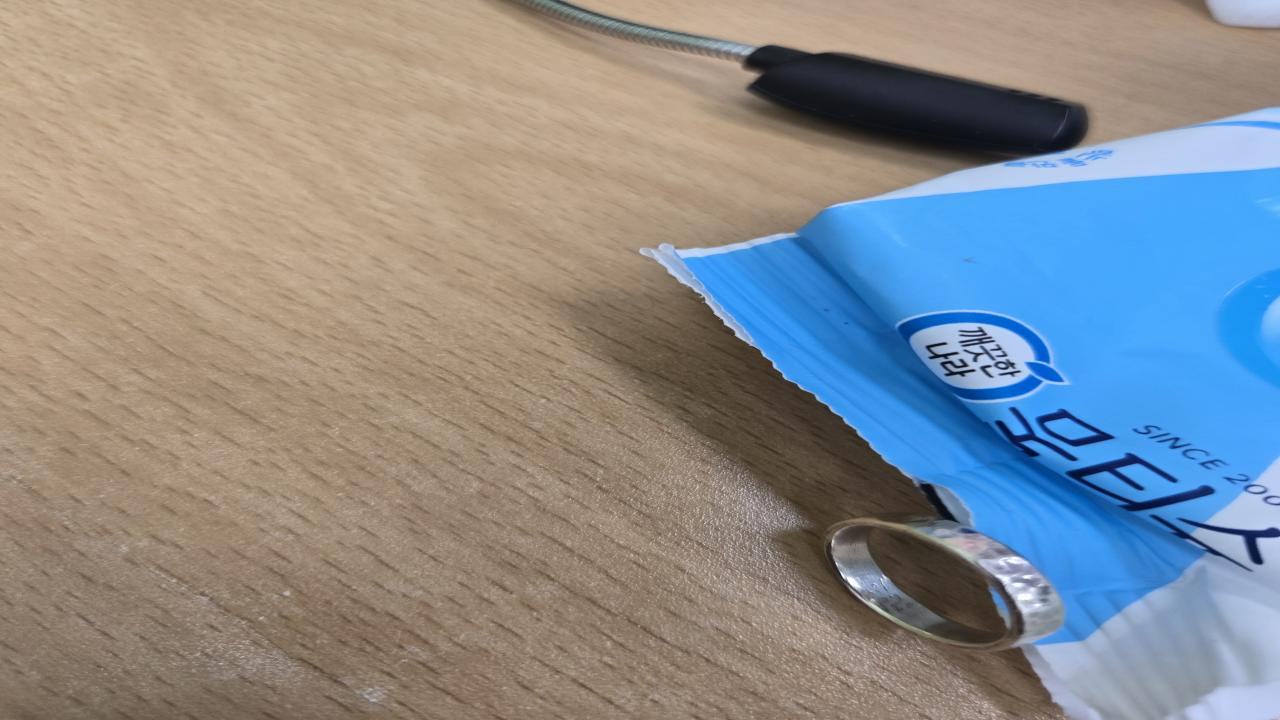ring: (820, 514, 1064, 650)
